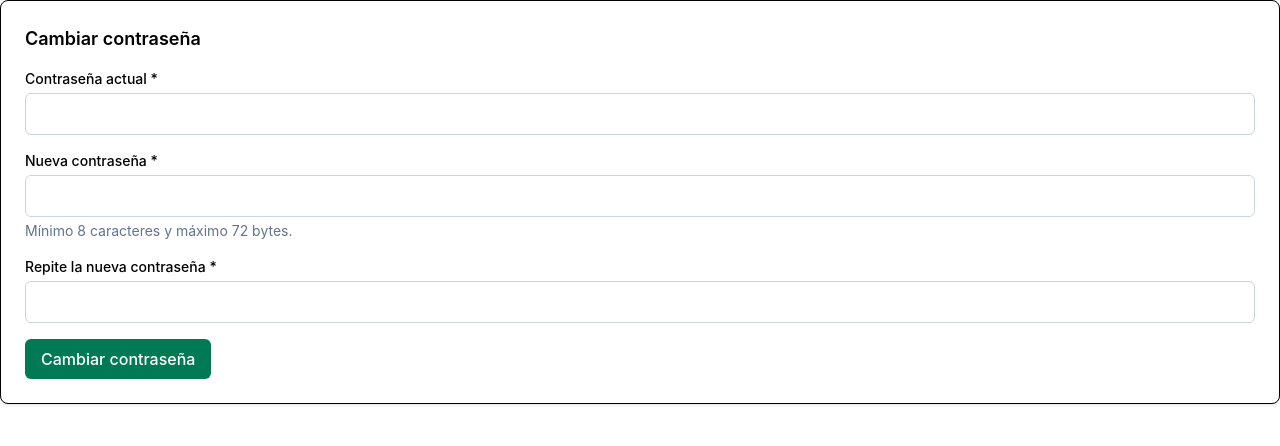
Test: ChangePasswordForm › no envía si la nueva es igual a la actual
The image size is (1280, 446).
Type "misma12345" into the password field labelled "Contraseña actual *". click: (640, 114)
box: [25,93,1255,135]
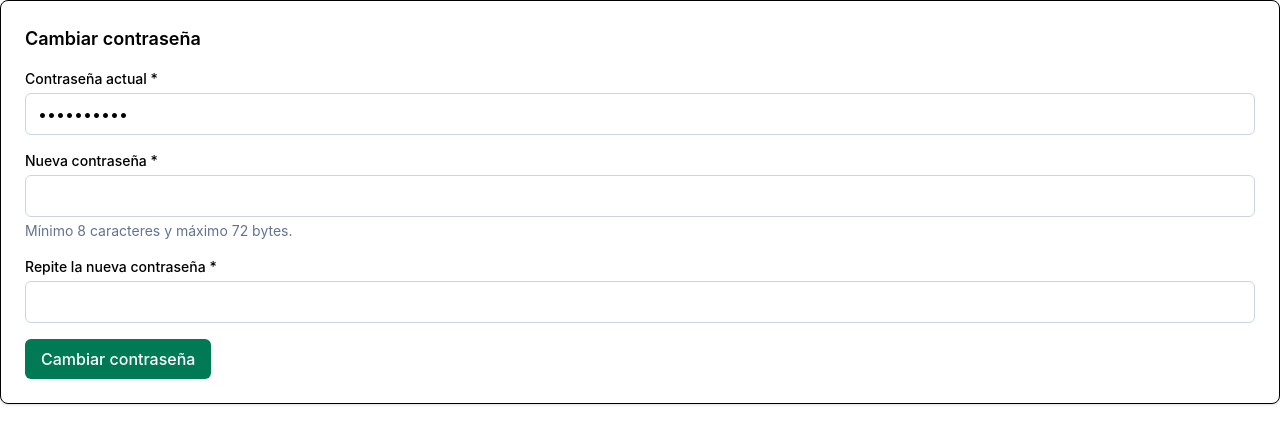
Type "misma12345" into the password field labelled "Nueva contraseña *". click: (640, 196)
box: [25,175,1255,217]
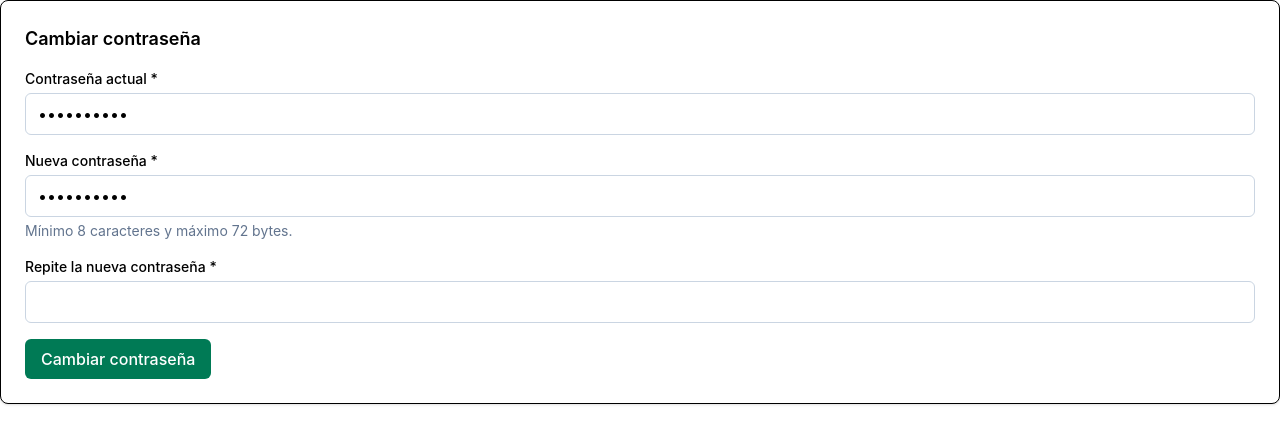
Type "misma12345" into the password field labelled "Repite la nueva contraseña *". click: (640, 302)
box: [25,281,1255,323]
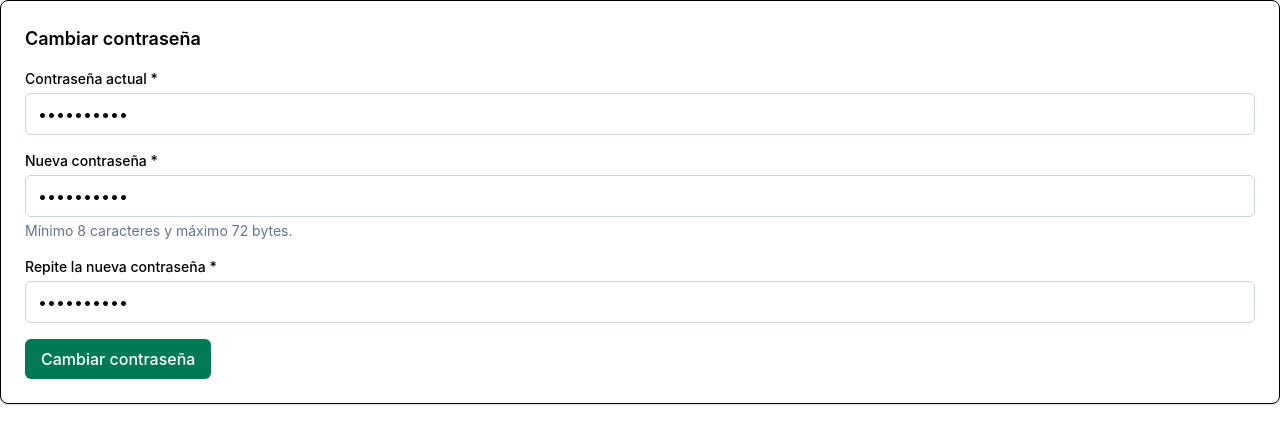
Click the button "Cambiar contraseña". click: (118, 359)
box: [25,339,211,379]
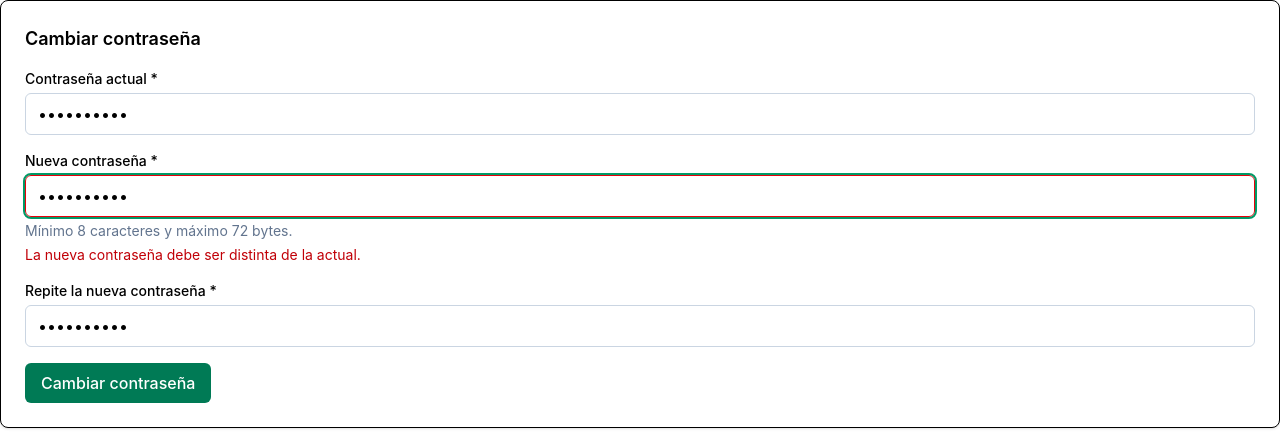
Expected: the text "La nueva contraseña debe ser distinta de la actual." is shown, [25,246,361,263]
